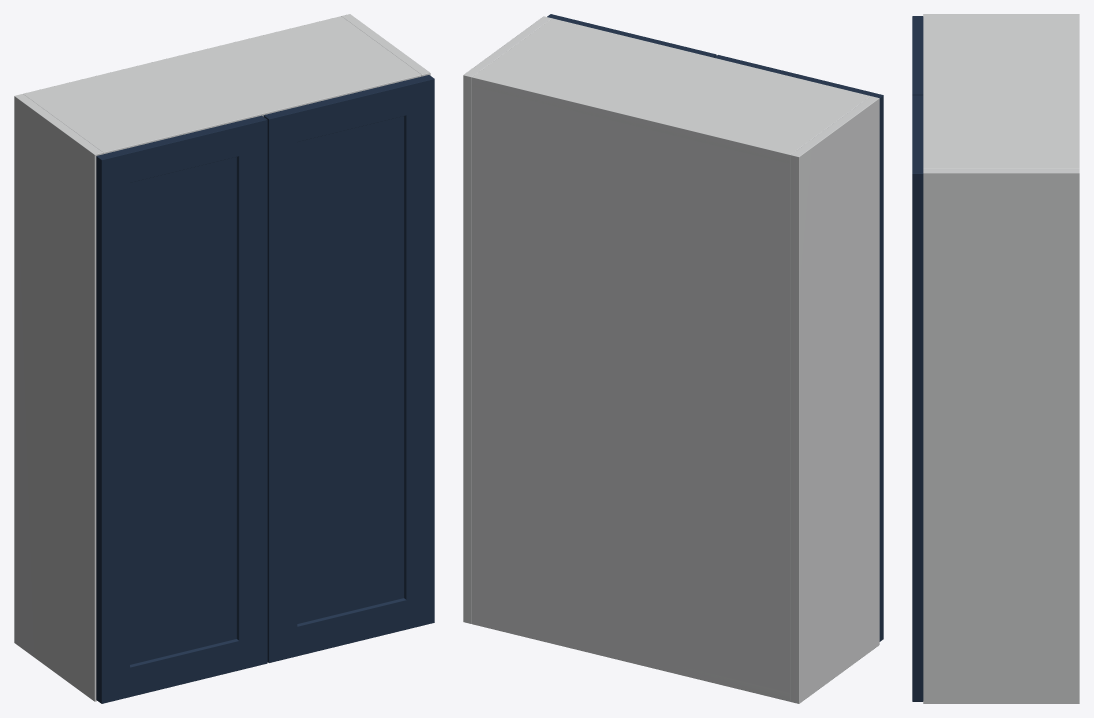
The model's file is oppein-pb-bss-w2742.glb.
3 views of the same model, side by side, from view 1: azimuth 30°, elevation 25°; view 2: azimuth 150°, elevation 25°; view 3: azimuth 270°, elevation 25° (orthographic). The views are drawn at different scales.
Parts seen in each view (by area): view 1: Door, Door.001, Cabinet side, Cabinet top, Cabinet side.001; view 2: Cabinet back, Cabinet side, Cabinet top, Cabinet side.001, Door, Door.001, Cabinet bottom; view 3: Cabinet side.001, Cabinet top, Door.001, Door, Cabinet side.
Boxes of the visible parts, box(x1,y1,x2,y2) form: Door: box(96, 115, 267, 703); Door.001: box(263, 75, 434, 662); Cabinet side: box(14, 94, 103, 701); Cabinet top: box(23, 16, 421, 154); Cabinet side.001: box(341, 14, 430, 76); Cabinet back: box(472, 77, 790, 701); Cabinet side: box(790, 96, 879, 703); Cabinet top: box(472, 18, 870, 163); Cabinet side.001: box(463, 16, 551, 623); Door: box(714, 55, 883, 641); Door.001: box(547, 14, 716, 57); Cabinet bottom: box(668, 664, 790, 701); Cabinet side.001: box(923, 169, 1079, 703); Cabinet top: box(923, 18, 1079, 168); Door.001: box(912, 95, 923, 701); Door: box(912, 16, 923, 95); Cabinet side: box(923, 14, 1079, 18).
Size of the model in its own units: 0.6858 by 1.07 by 0.3048.
